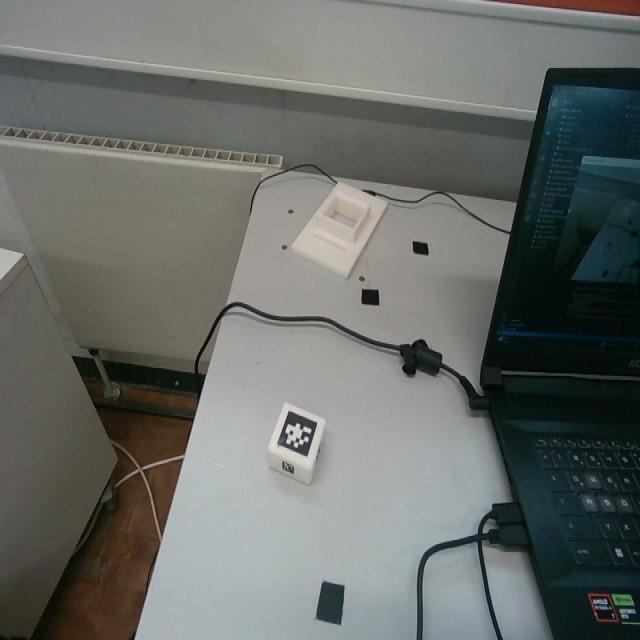Cube: (266, 400, 327, 485)
